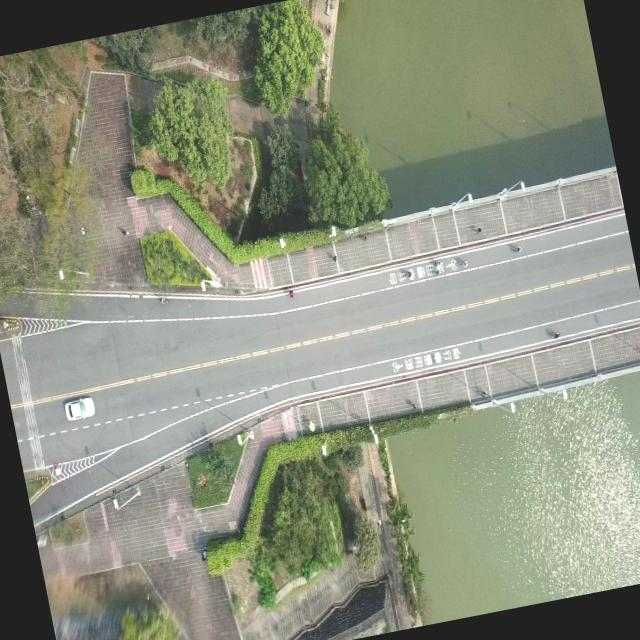car: (61, 392, 95, 422)
